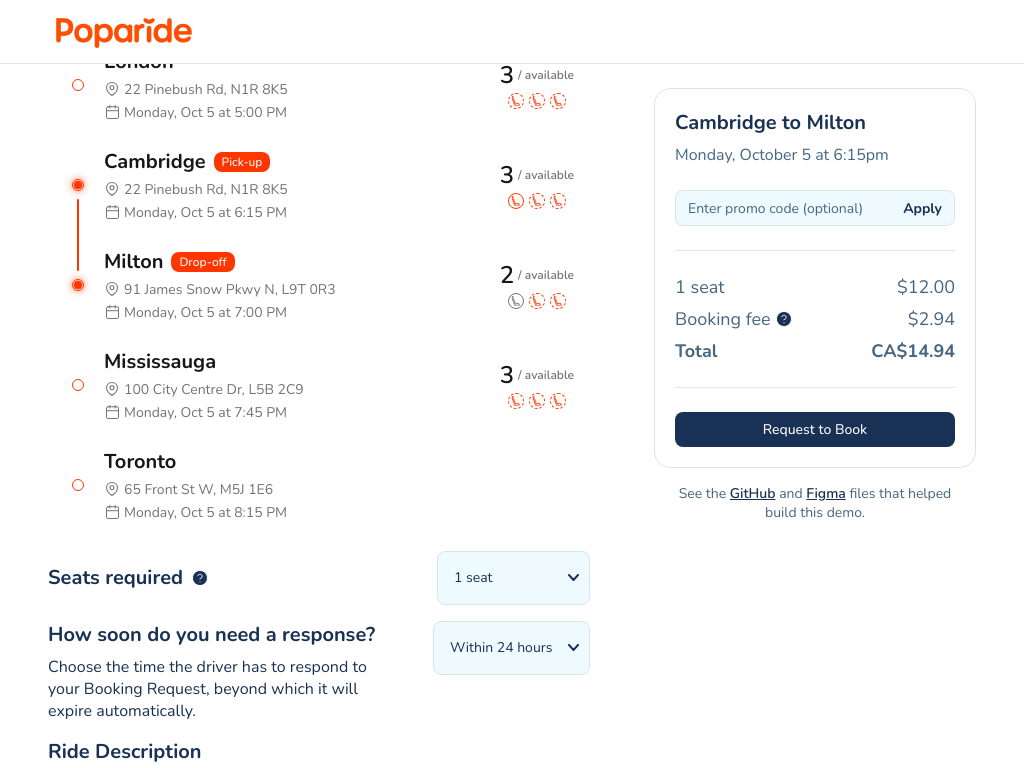
Test case: selecting Cambridge to Mississauga gives $17
The image size is (1024, 768).
(page scrolled)
Click the button "Mississauga" at [160, 361], box [48,335,590,435]
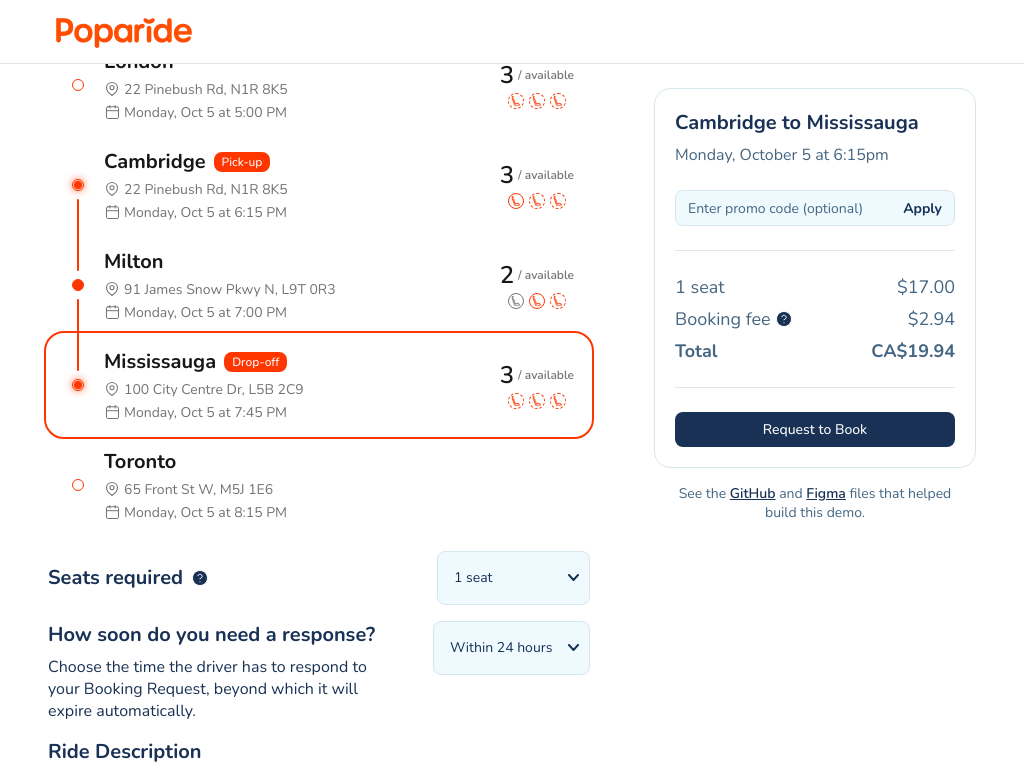
Check: the text "$17.00" is shown, box [897,275,955,299]
Check: the text "CA$19.94" is shown, box [871,339,955,363]
Check: the button "Mississauga" shows "Drop-off", box [48,335,590,435]
